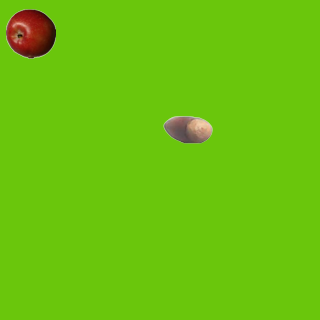Apple Braeburn: (5, 8, 55, 58)
Hazelnut: (162, 104, 212, 154)
